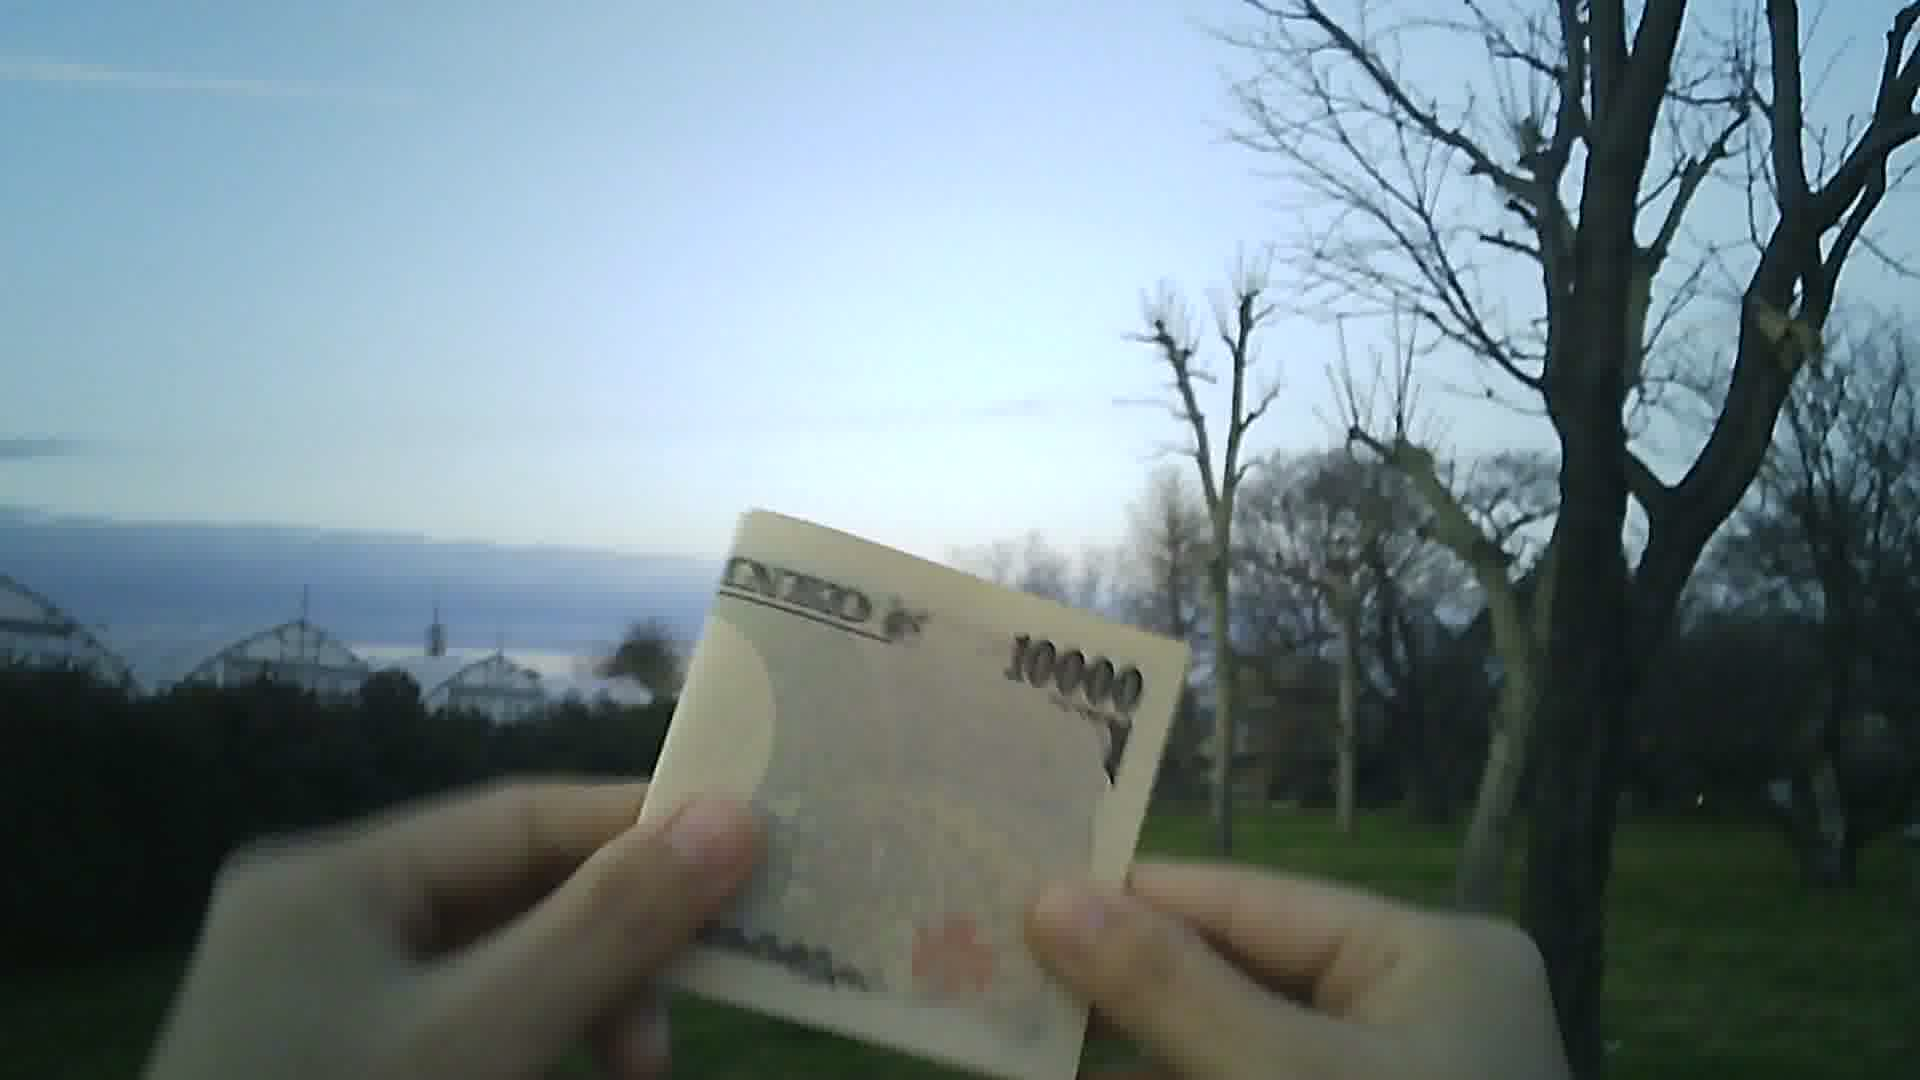10,000 Yen: (632, 497, 1215, 1065)
